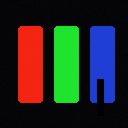4 line_v: (97, 79, 103, 115)
